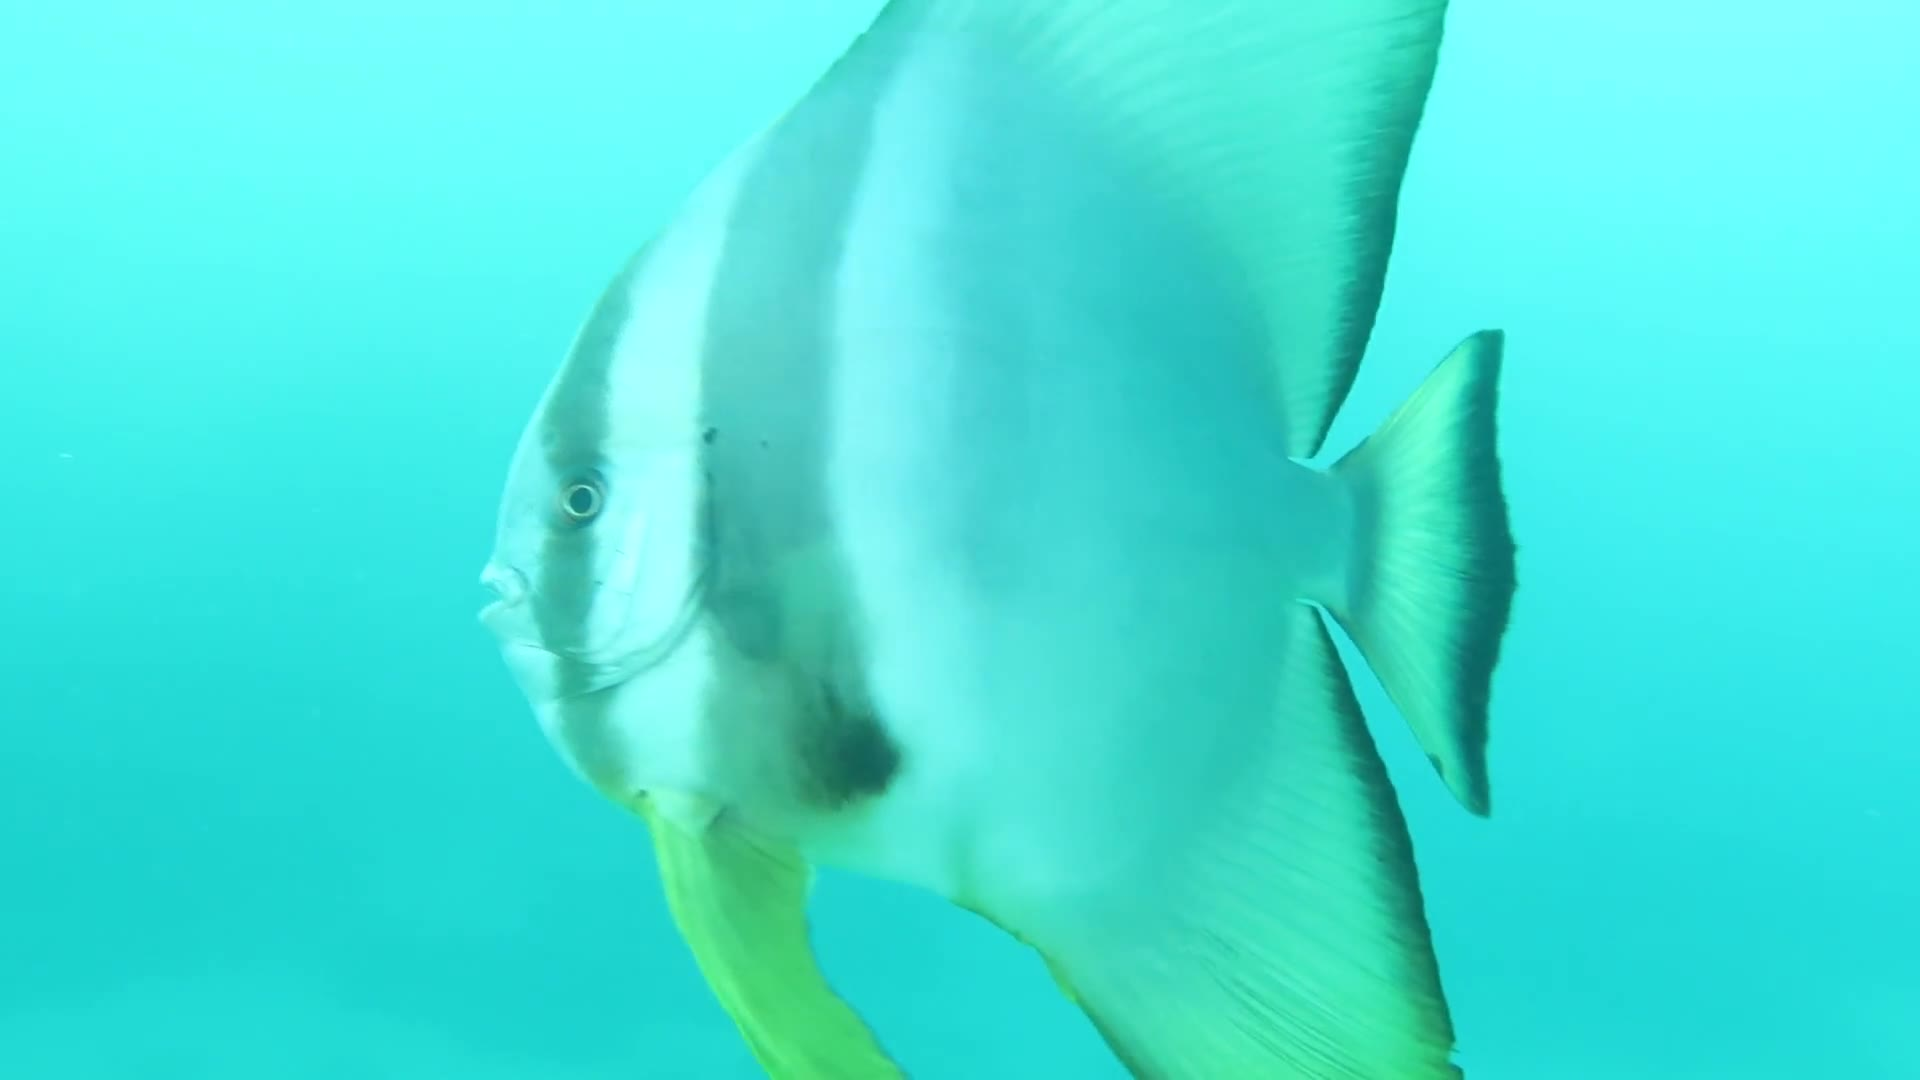Platax teira: (471, 1, 1564, 1080)
